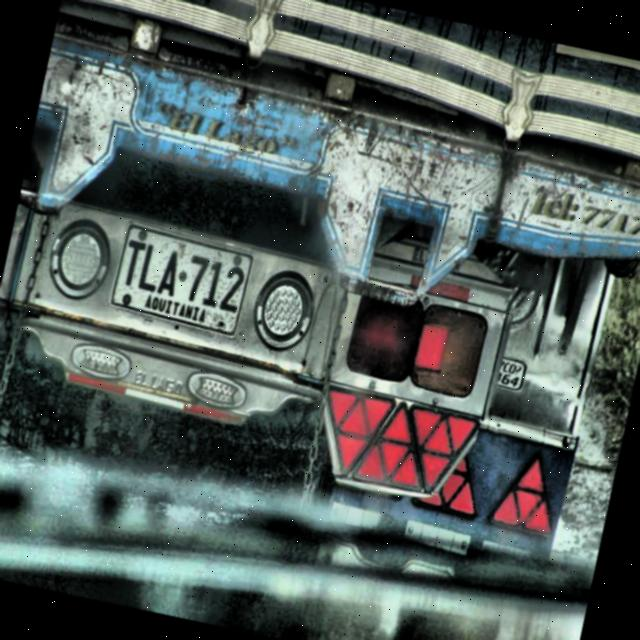plate: (112, 224, 252, 334)
